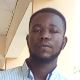without_facemask: (31, 36, 58, 60)
